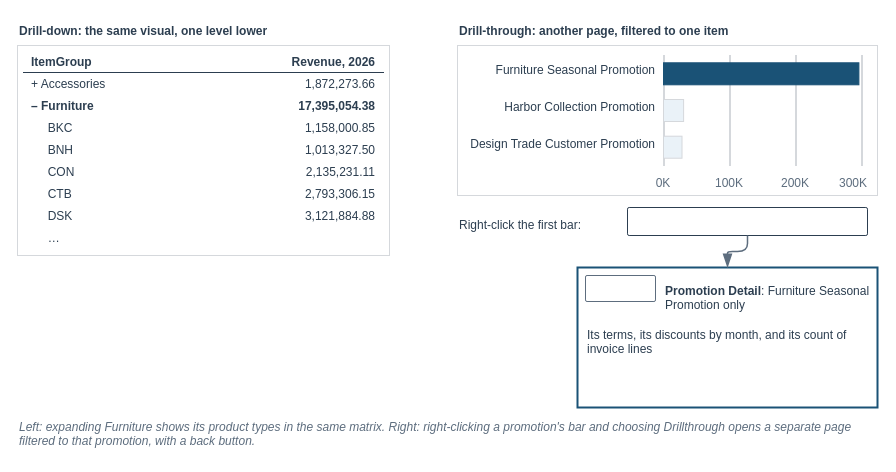
Image size: 896x472. Some labels were removed from this diagram. The centre of each missing label's shape, as x and y in pixels:
Drillthrough ▸ Promotion Detail: (747,221)
◀ Back: (620,288)
